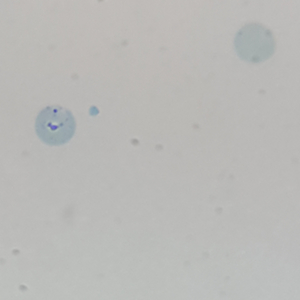erythrocyte: (33, 104, 78, 148), (233, 23, 276, 65)
